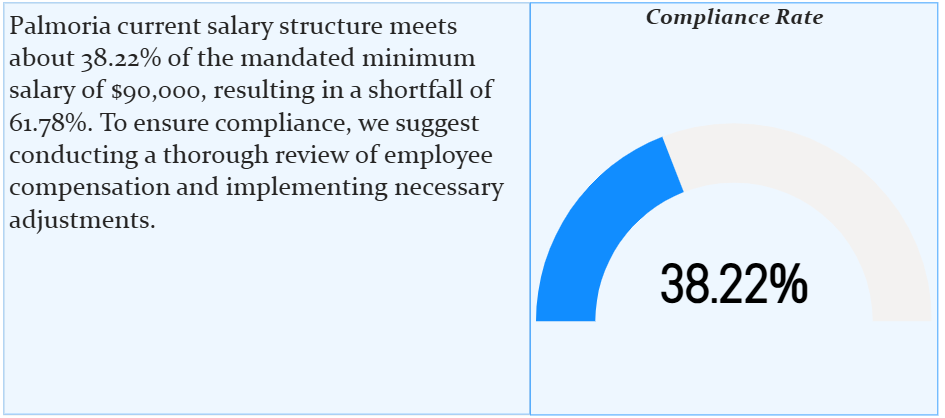

What the dashboard file says about the page in this screenshot:
{"tool":"powerbi","page":{"name":"Page 6","canvas":[1280,720],"ordinal":1},"visuals":[{"type":"textbox","box":[135.4,101.8,531.6,415.8],"z":0},{"type":"gauge","title":"Compliance Rate","fields":{"Y":["Palmoria employee data.compliance percentage"]},"box":[667,101.8,489.5,415.8],"z":1000}]}

Visuals, with their boxes on the page's 1280x720 design canvas (x1, y1, x2, y2). These are canvas units, not pixel positions in the 945x418 screenshot, which may show the page scaled, cropped or inside an application window:
textbox: <bbox>135, 102, 667, 518</bbox>
"Compliance Rate" gauge: <bbox>667, 102, 1156, 518</bbox>
